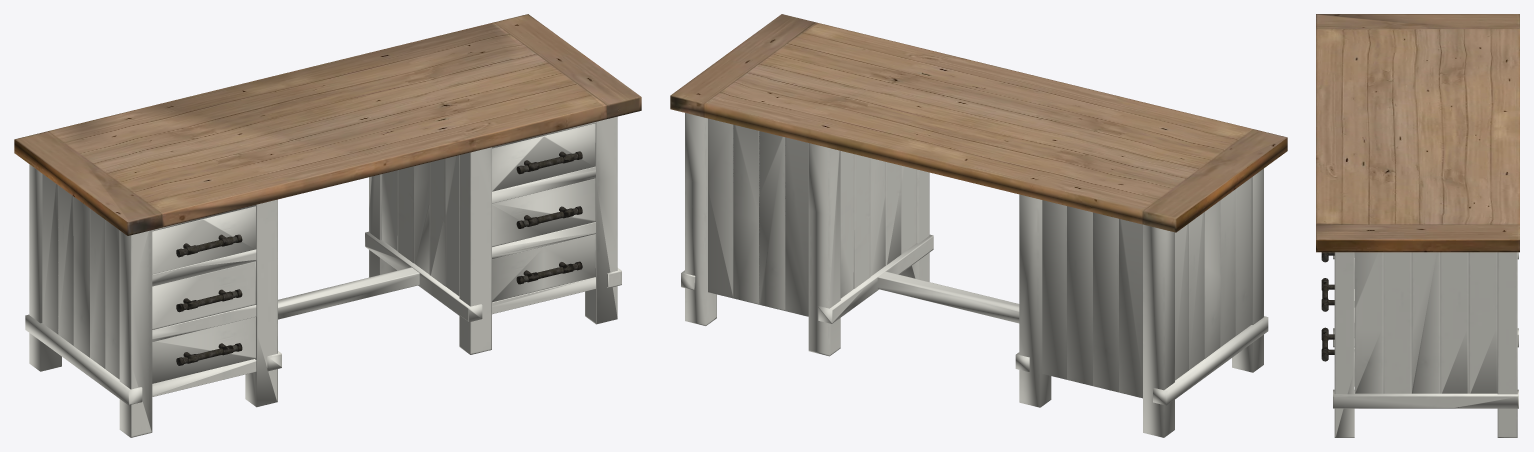
The model's file is B075Z7HQHY.glb.
3 renders of one model, left to right at view 1: azimuth 30°, elevation 25°; view 2: azimuth 150°, elevation 25°; view 3: azimuth 270°, elevation 25°, orthographic. The views are drawn at different scales.
Visible parts, largest first — view 1: RootNode; view 2: RootNode; view 3: RootNode.
Boxes of the visible parts, <box> form: RootNode: <box>14,14,641,437</box>; RootNode: <box>670,14,1287,437</box>; RootNode: <box>1316,14,1519,437</box>.
Size of the model in its own units: 1.8 by 0.7603 by 0.6885.
Materials: 1 (1 with a texture image).
